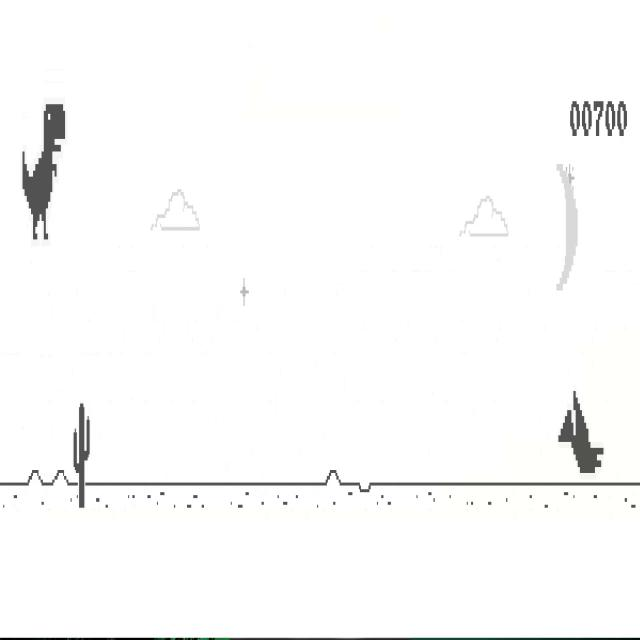cacto: (73, 402, 90, 509)
dino: (22, 103, 66, 241)
ptero: (558, 389, 604, 474)
